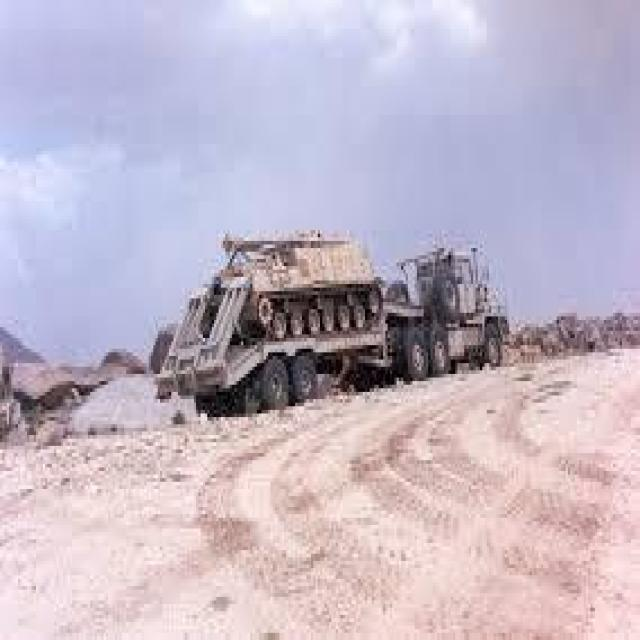Tanks: (214, 221, 388, 340)
